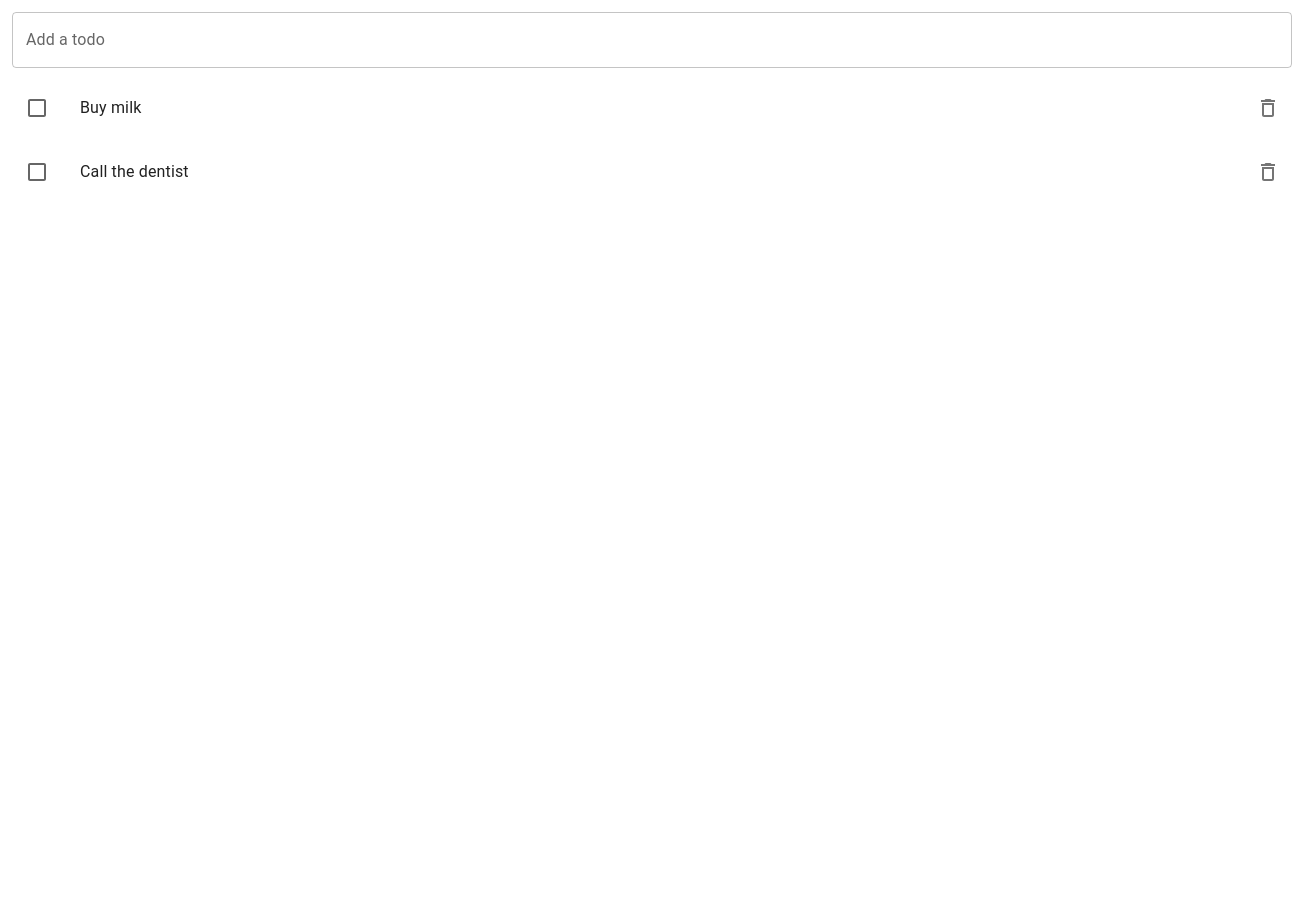
Test: a delete that fails after its Undo was tapped shows the todo once
Step 1. Click the button named "Delete Call the dentist" → (1268, 172), box [1248,152,1288,192]
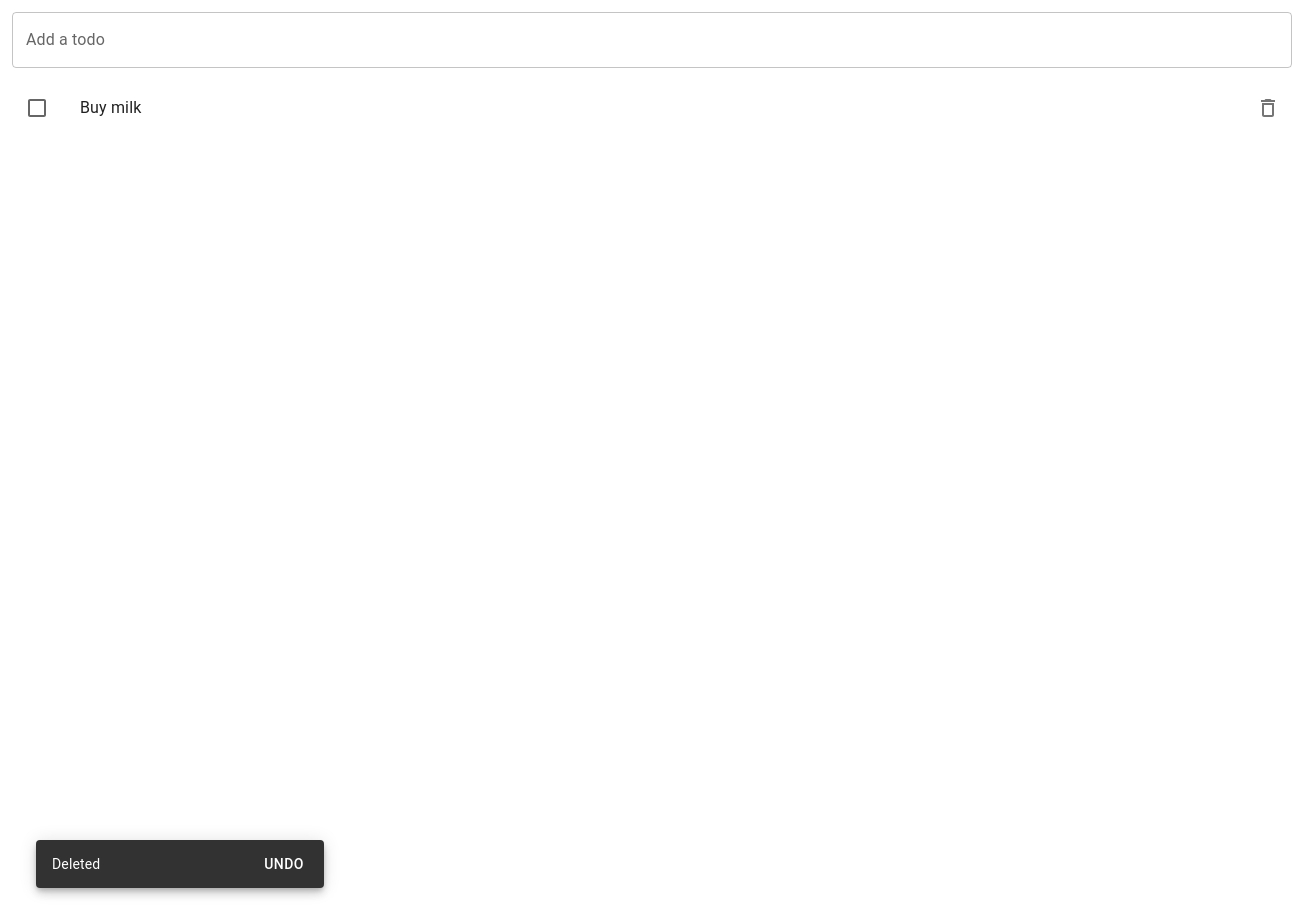
Step 2. Click the button "Undo" → (284, 864), box [252,846,316,882]
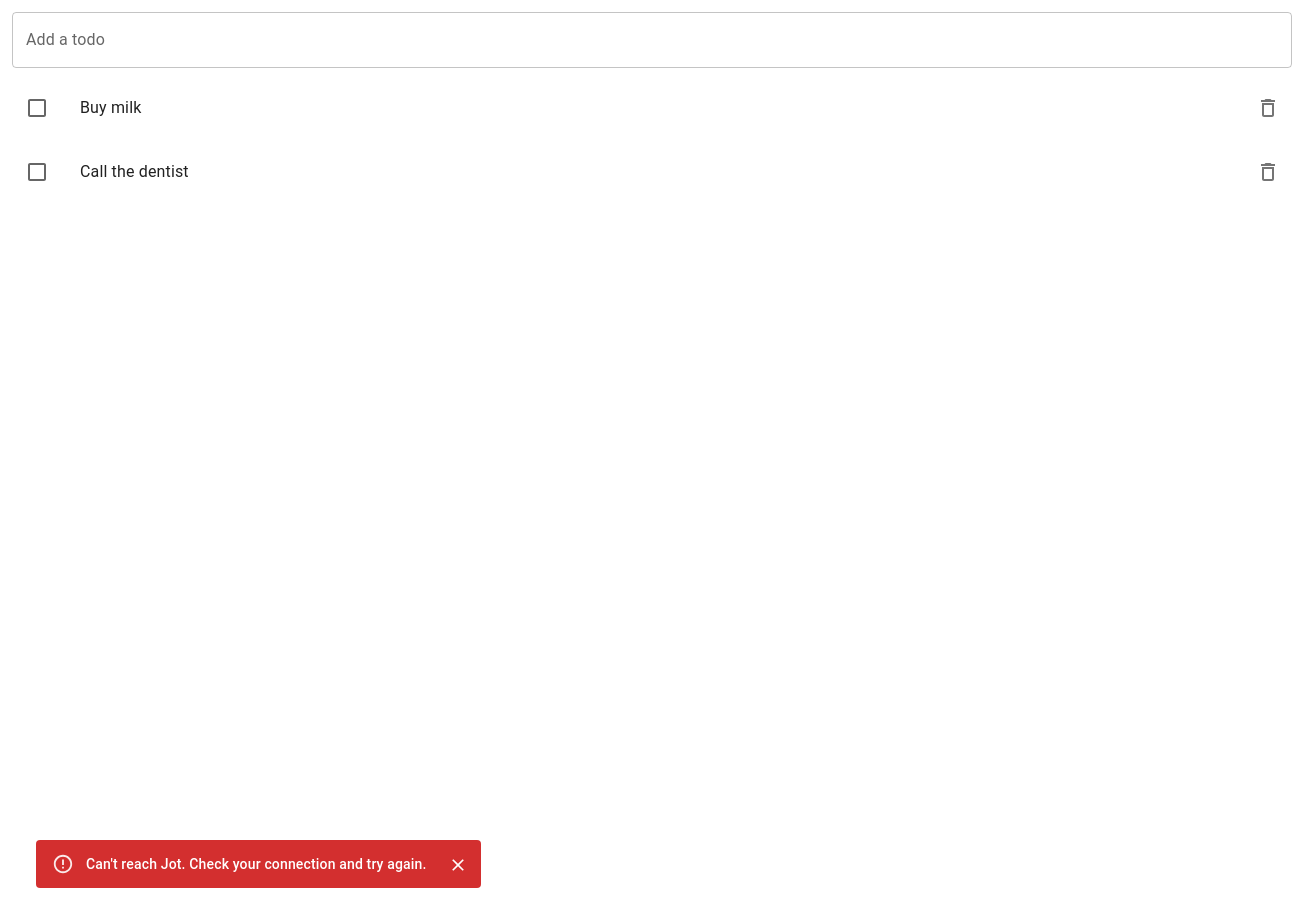
Result: the text "Can't reach Jot. Check your connection and try again." is shown at [86,856,426,872]
Result: the list items read "Buy milk", "Call the dentist", in this order at [12,76,1292,140]; [12,140,1292,204]
